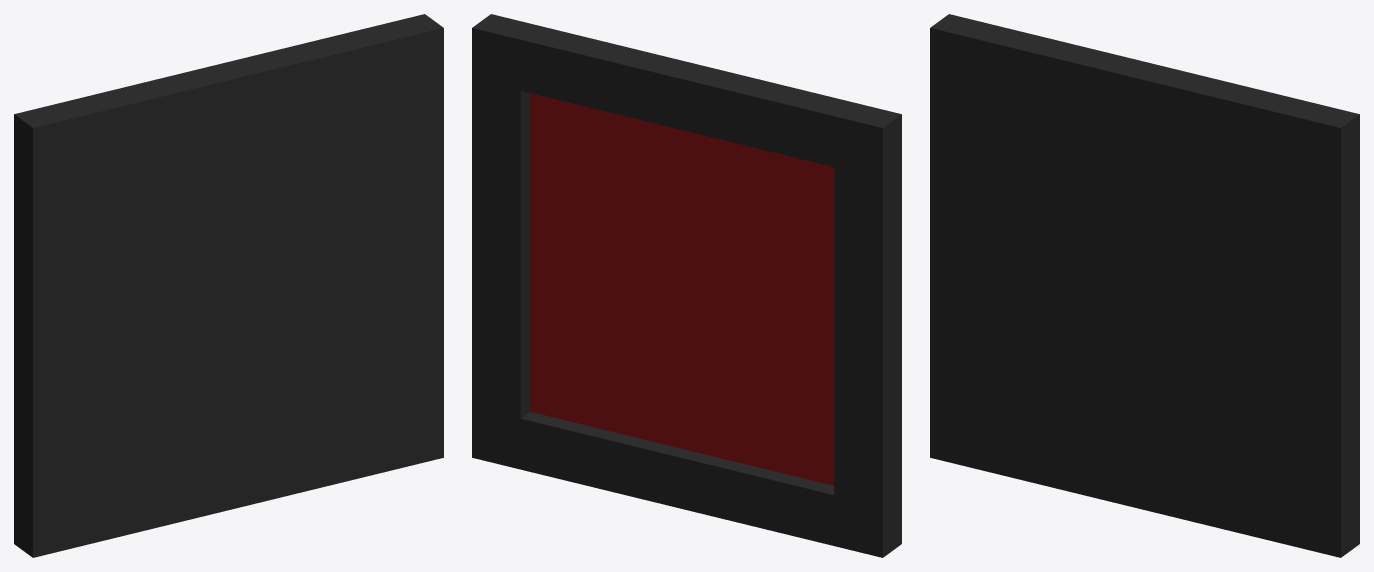
The model's file is MOD_MurE3.FBX.
3 views of the same model, side by side, from view 1: azimuth 30°, elevation 25°; view 2: azimuth 150°, elevation 25°; view 3: azimuth 330°, elevation 25° (orthographic).
Parts seen in each view (by area): view 1: MOD_Murd; view 2: MOD_Murd; view 3: MOD_Murd.
Part boxes in pixels (x1,y1,x2,y2): MOD_Murd: (14, 14, 443, 557); MOD_Murd: (472, 14, 901, 557); MOD_Murd: (930, 14, 1359, 557).
Size of the model in its own units: 0.9528 by 0.9528 by 0.0762.
